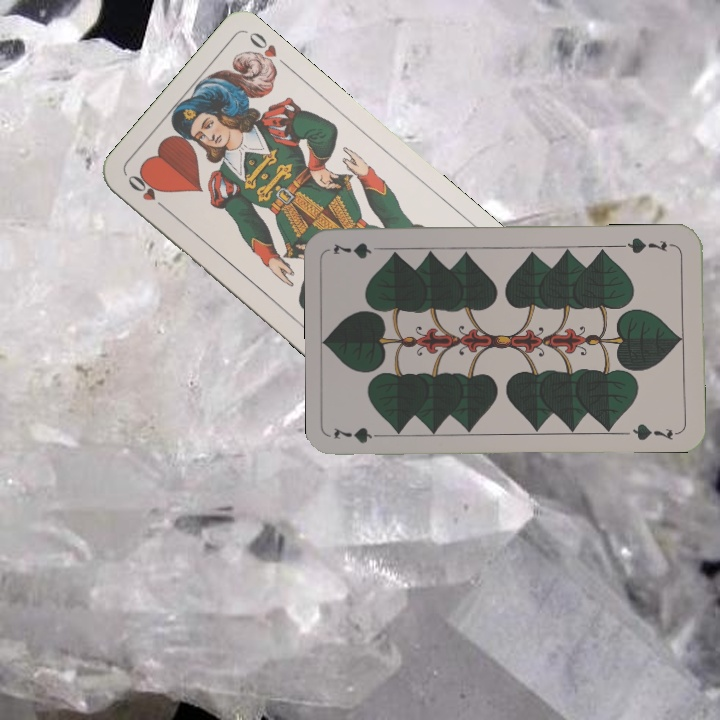G7: (619, 233, 678, 256), (330, 423, 389, 446)
HO: (123, 170, 172, 214)
